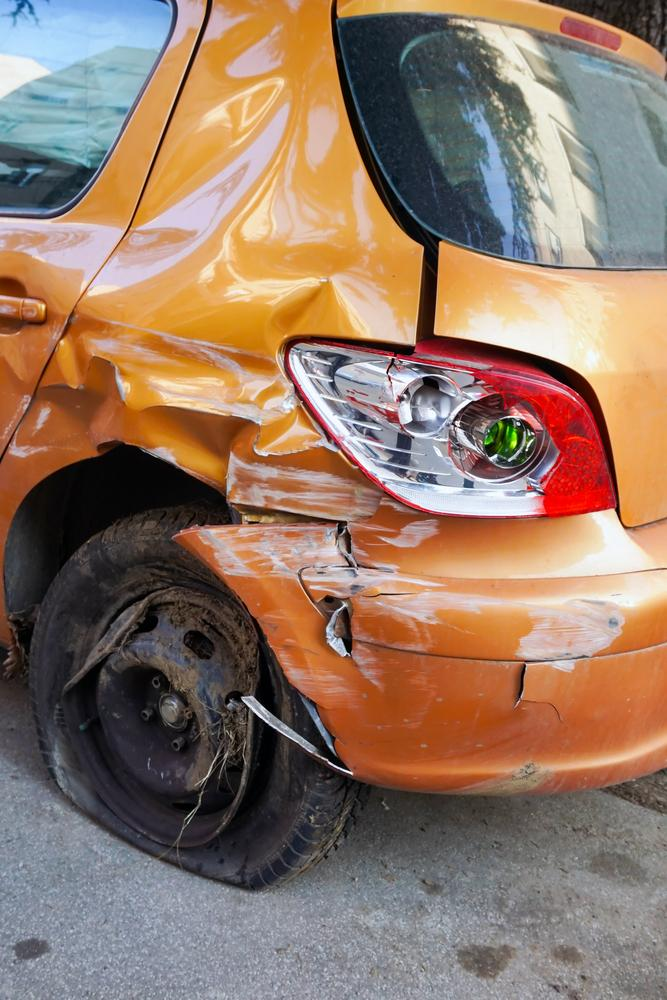crack: (308, 591, 417, 659), (514, 662, 565, 726), (335, 524, 384, 572)
dent: (6, 276, 377, 517), (94, 87, 292, 290)
lamp broken: (285, 335, 618, 519)
scratch: (272, 580, 626, 729), (196, 518, 442, 593)
tire flat: (27, 500, 372, 890)
